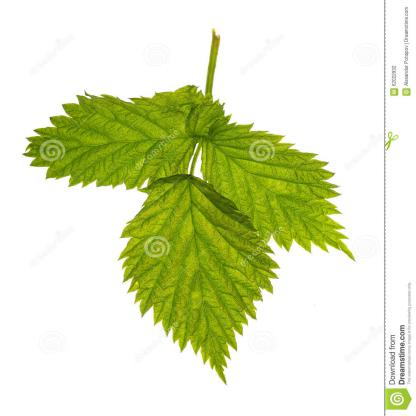raspberry leaf: (121, 176, 278, 387), (198, 108, 357, 260), (20, 82, 224, 188)
